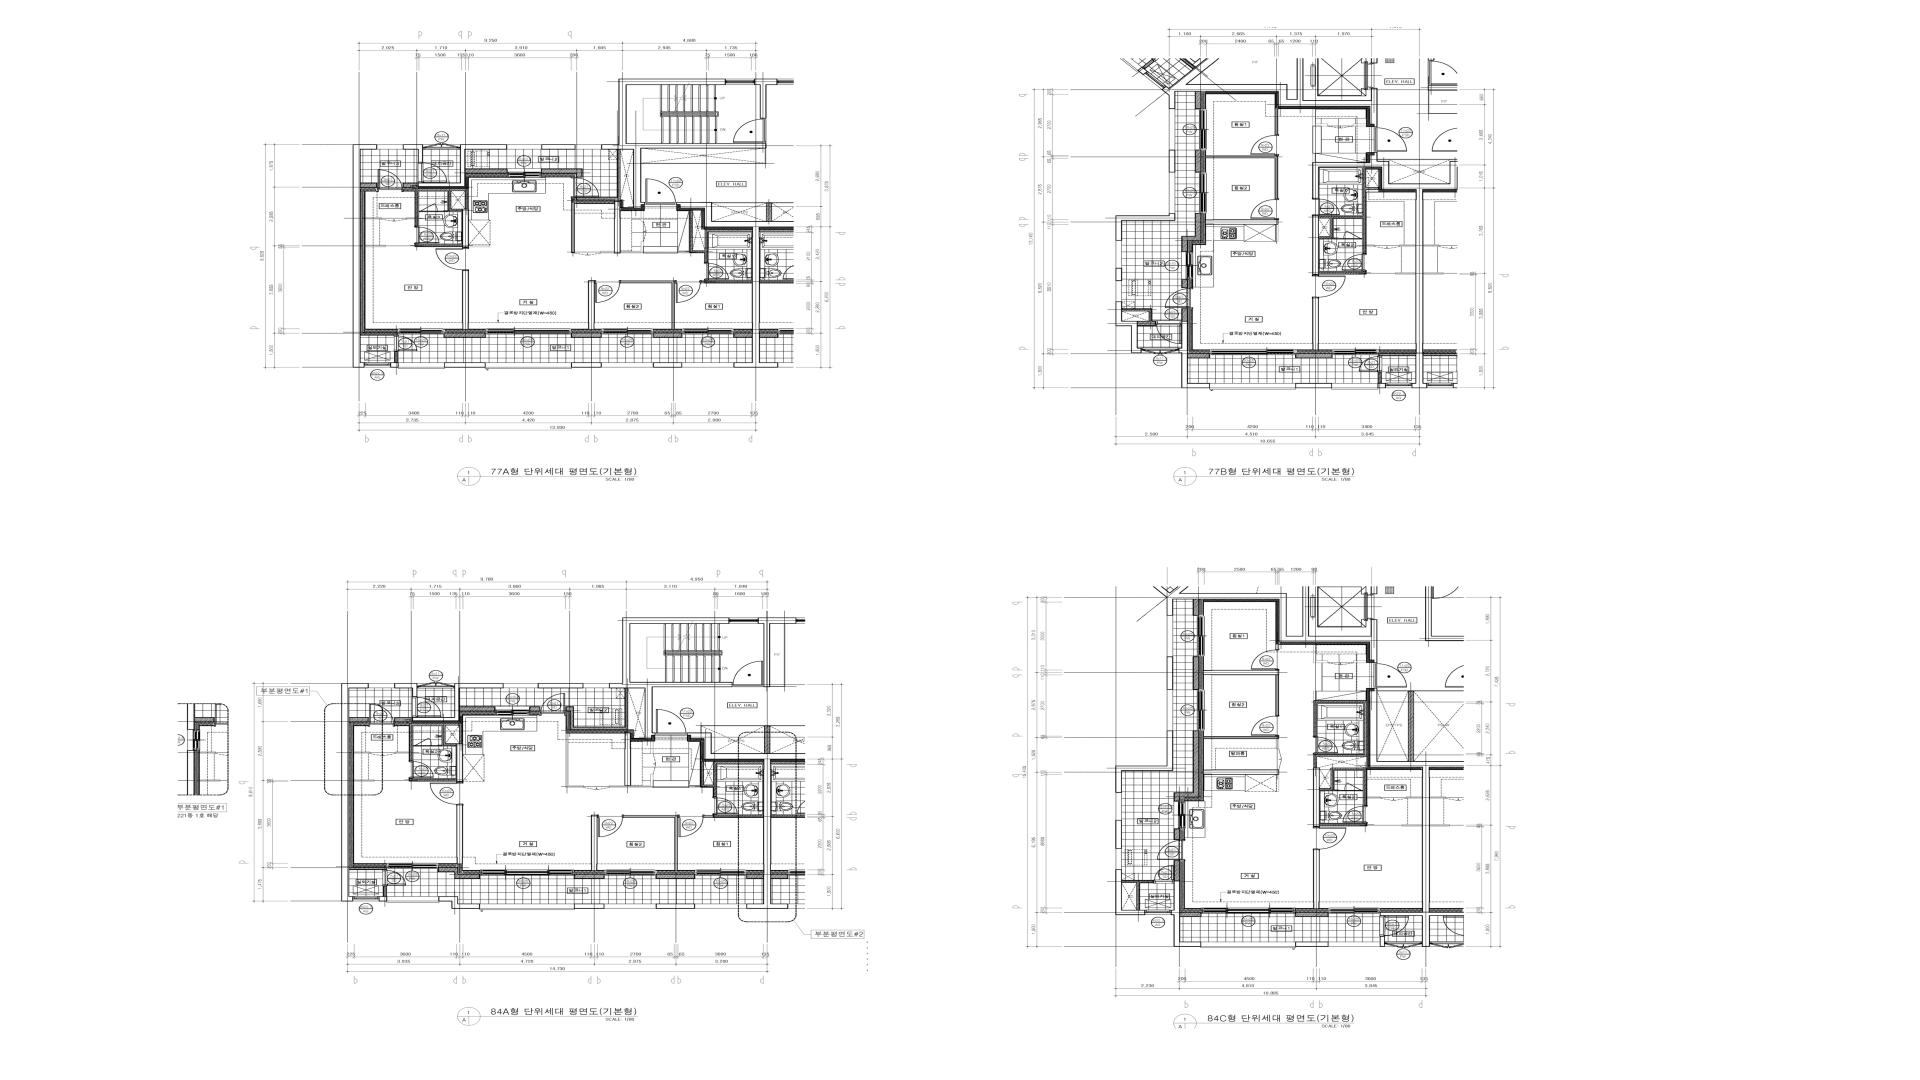door: (655, 708, 687, 736), (732, 661, 764, 687), (645, 178, 676, 204), (1374, 127, 1407, 152), (733, 119, 766, 144), (1312, 274, 1346, 298), (435, 247, 469, 270), (1374, 663, 1407, 687), (430, 782, 463, 804), (1313, 827, 1346, 849), (411, 696, 442, 717), (1379, 915, 1410, 936), (1164, 287, 1193, 309), (1250, 135, 1279, 156), (1156, 320, 1182, 344), (541, 692, 566, 716), (369, 703, 394, 727), (678, 815, 704, 837), (597, 815, 624, 837), (675, 280, 702, 302), (595, 280, 621, 302), (377, 169, 404, 191), (1251, 649, 1279, 670), (571, 177, 599, 198), (1250, 199, 1279, 219), (418, 162, 447, 182), (1251, 716, 1279, 736), (1158, 840, 1185, 860), (1312, 198, 1340, 215), (414, 225, 439, 244), (1342, 253, 1367, 270), (712, 796, 737, 814), (409, 761, 434, 778), (1342, 806, 1367, 823), (1313, 736, 1338, 753), (704, 262, 729, 280), (382, 870, 406, 886), (1154, 865, 1174, 884), (1360, 356, 1382, 372), (394, 335, 417, 351), (417, 682, 455, 688), (1142, 348, 1179, 355), (1385, 942, 1422, 948), (423, 142, 460, 149), (415, 737, 433, 746), (1345, 782, 1362, 791), (421, 203, 438, 212), (1344, 231, 1361, 239), (1374, 245, 1400, 249), (369, 752, 396, 756), (1381, 796, 1407, 800), (381, 218, 407, 222), (575, 252, 601, 256), (584, 786, 609, 790), (1278, 749, 1282, 769), (1328, 125, 1353, 128), (1328, 662, 1353, 665), (644, 222, 646, 241)
wall: (1312, 152, 1457, 388), (1370, 687, 1464, 947), (601, 78, 766, 208), (687, 732, 806, 909), (1153, 585, 1378, 663), (676, 202, 778, 368), (609, 617, 732, 738), (1162, 58, 1378, 127), (342, 683, 368, 902), (352, 144, 377, 368), (1319, 167, 1379, 253), (418, 144, 508, 186), (1313, 700, 1367, 767), (1116, 731, 1174, 793), (411, 683, 504, 721), (1203, 670, 1279, 716), (690, 210, 752, 262), (1205, 156, 1278, 199), (704, 765, 764, 818), (624, 815, 678, 870), (758, 617, 796, 687), (621, 281, 675, 330), (396, 723, 463, 761), (566, 688, 628, 729), (609, 732, 653, 787), (406, 189, 468, 225), (700, 761, 764, 796), (576, 149, 620, 200), (1425, 585, 1464, 641), (1179, 320, 1209, 388), (1171, 881, 1201, 947), (641, 148, 766, 164), (1174, 731, 1200, 802), (1320, 767, 1367, 806), (1203, 769, 1279, 791), (1320, 791, 1367, 827), (409, 746, 456, 782), (1116, 214, 1175, 240), (1116, 302, 1142, 353), (1116, 869, 1145, 915), (600, 200, 621, 253), (1203, 736, 1279, 749), (566, 733, 584, 787), (754, 78, 778, 119), (1122, 880, 1154, 910), (770, 624, 785, 687), (1182, 212, 1201, 252), (700, 725, 806, 732), (1122, 309, 1156, 326), (439, 897, 480, 909), (462, 270, 469, 330), (438, 868, 480, 878), (1312, 215, 1319, 274), (1313, 849, 1320, 909), (1313, 767, 1320, 827), (456, 804, 463, 864), (402, 144, 423, 162), (1205, 219, 1278, 224), (1408, 691, 1414, 761), (591, 815, 597, 870), (1312, 298, 1319, 351), (588, 280, 595, 330), (542, 169, 583, 177), (462, 208, 469, 247), (394, 683, 417, 696), (1313, 645, 1328, 663), (621, 241, 644, 253), (456, 744, 463, 782), (1313, 108, 1328, 125), (538, 683, 583, 688), (465, 169, 508, 174), (443, 332, 485, 338), (571, 198, 575, 253), (1167, 657, 1174, 690), (1193, 657, 1200, 690), (444, 363, 485, 368), (655, 903, 695, 909), (1295, 353, 1333, 359), (702, 280, 752, 284), (1319, 270, 1366, 274), (460, 705, 496, 711), (1296, 382, 1332, 388), (1116, 820, 1122, 848), (1295, 911, 1329, 916), (542, 144, 575, 149), (1295, 942, 1328, 947), (574, 874, 605, 880), (571, 332, 601, 338), (653, 332, 683, 338), (655, 874, 695, 878), (1195, 149, 1201, 173), (653, 363, 682, 368), (572, 363, 601, 368), (575, 903, 604, 909), (349, 866, 386, 870), (1174, 860, 1180, 881), (765, 727, 770, 753), (1168, 150, 1175, 171), (414, 244, 463, 247), (1188, 353, 1211, 359), (1378, 690, 1464, 691), (1193, 599, 1200, 616), (1195, 91, 1201, 108), (349, 717, 369, 723), (1378, 158, 1457, 160), (1275, 108, 1279, 135), (1378, 353, 1416, 356), (360, 332, 398, 335), (733, 332, 752, 338), (746, 874, 764, 880), (360, 182, 377, 187), (1116, 268, 1122, 281), (1180, 913, 1201, 916), (402, 182, 418, 187), (1174, 828, 1180, 840), (1182, 309, 1188, 320), (394, 717, 413, 721), (529, 705, 541, 711), (353, 779, 375, 782), (1379, 936, 1385, 947), (1402, 824, 1422, 827), (1182, 280, 1188, 287), (394, 351, 398, 363), (390, 363, 398, 368), (1400, 244, 1416, 247), (1378, 372, 1382, 382), (382, 886, 386, 897), (378, 897, 386, 902), (1378, 382, 1386, 388), (1353, 661, 1366, 663), (650, 741, 653, 753), (1395, 273, 1416, 274), (641, 211, 644, 222), (365, 245, 385, 247), (1276, 224, 1278, 241), (1366, 244, 1374, 247), (353, 752, 369, 753), (1275, 644, 1279, 649), (365, 218, 381, 219), (1407, 796, 1422, 798), (1353, 124, 1366, 125), (1367, 796, 1381, 798), (418, 211, 421, 212)
window: (480, 903, 575, 910), (1201, 942, 1296, 948), (480, 869, 574, 876), (1201, 907, 1295, 914), (1209, 382, 1296, 389), (485, 363, 572, 368), (485, 328, 571, 334), (1211, 349, 1295, 355), (695, 869, 746, 876), (604, 869, 655, 876), (386, 862, 438, 869), (1329, 907, 1381, 914), (1182, 252, 1193, 280), (1199, 173, 1207, 214), (1199, 108, 1207, 149), (1197, 690, 1205, 731), (1197, 616, 1205, 657), (508, 169, 542, 178), (1174, 802, 1185, 828), (1332, 382, 1378, 389), (496, 705, 529, 715), (604, 903, 657, 909), (386, 897, 439, 902), (1328, 942, 1381, 947), (1167, 615, 1174, 657), (695, 903, 746, 909), (682, 328, 733, 334), (601, 328, 653, 334), (1167, 690, 1174, 731), (398, 363, 444, 368), (1333, 349, 1378, 355), (398, 328, 443, 334), (1170, 171, 1175, 214), (1170, 108, 1175, 150), (682, 363, 733, 367), (601, 363, 653, 367), (729, 617, 758, 624), (1116, 240, 1122, 268), (1116, 793, 1122, 820), (504, 683, 538, 688), (508, 144, 542, 149), (725, 79, 754, 84), (1386, 382, 1412, 388), (1116, 281, 1122, 302), (583, 683, 609, 688), (352, 895, 378, 901), (368, 683, 394, 688), (1145, 910, 1171, 915), (1116, 848, 1122, 869), (575, 144, 601, 149), (377, 144, 402, 149), (364, 363, 390, 367)
